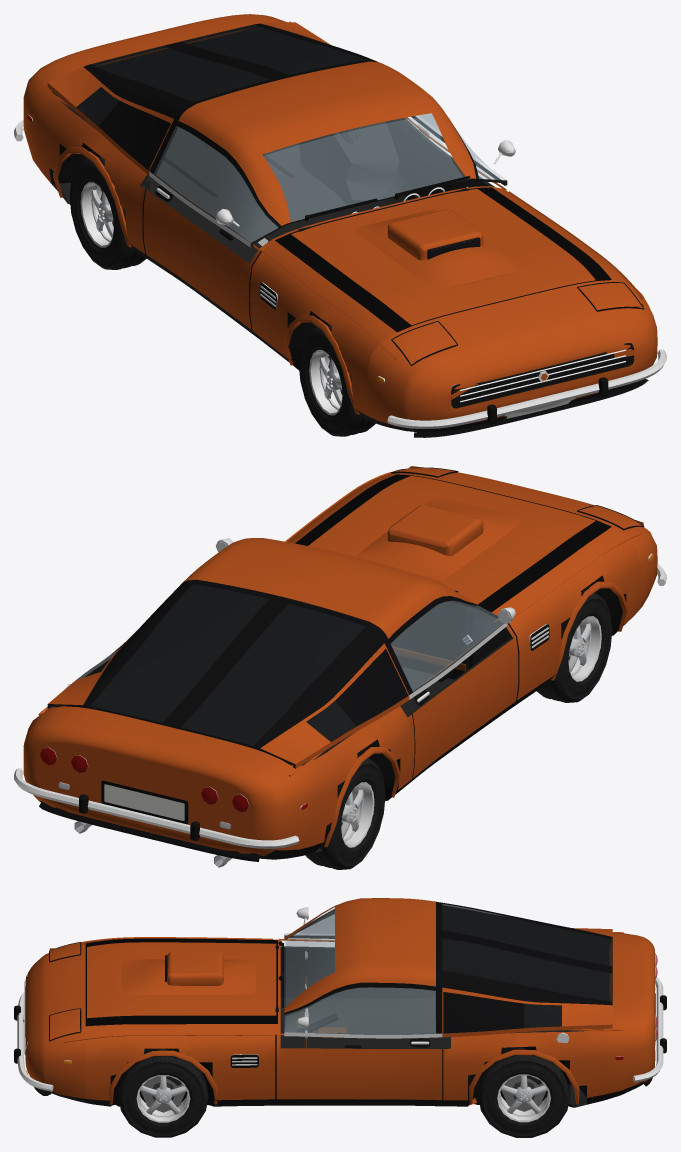
The model's file is ventura_gt_lod2.glb.
The picture shows the model from 3 angles, top to bottom: view 1: azimuth 30°, elevation 25°; view 2: azimuth 150°, elevation 25°; view 3: azimuth 270°, elevation 25°; orthographic projection. The views are drawn at different scales.
Parts seen in each view (by area): view 1: ventura_gt, door_R, hood, hatch, hood_bulge, wheel_RR, wheel_FR, door_L, hood_scoop, popup_R, popup_L; view 2: ventura_gt, hatch, door_R, hood, hood_bulge, wheel_RR, wheel_FR, hood_scoop, popup_R; view 3: ventura_gt, door_L, hatch, hood, wheel_RL, wheel_FL, door_R, hood_bulge, hood_scoop, popup_L, popup_R.
Part boxes in pixels (left/top/right/bottom): ventura_gt: left=14, top=14, right=666, bottom=437; door_R: left=143, top=119, right=281, bottom=329; hood: left=291, top=189, right=595, bottom=325; hatch: left=83, top=23, right=378, bottom=120; hood_bulge: left=353, top=208, right=526, bottom=290; wheel_RR: left=69, top=156, right=149, bottom=269; wheel_FR: left=298, top=325, right=375, bottom=436; door_L: left=406, top=113, right=515, bottom=197; hood_scoop: left=387, top=209, right=483, bottom=260; popup_R: left=391, top=321, right=457, bottom=366; popup_L: left=577, top=282, right=643, bottom=311; ventura_gt: left=14, top=471, right=666, bottom=867; hatch: left=83, top=580, right=387, bottom=750; door_R: left=384, top=596, right=518, bottom=777; hood: left=308, top=476, right=595, bottom=604; hood_bulge: left=357, top=497, right=524, bottom=580; wheel_RR: left=305, top=758, right=385, bottom=869; wheel_FR: left=536, top=592, right=612, bottom=702; hood_scoop: left=387, top=505, right=483, bottom=556; popup_R: left=577, top=505, right=644, bottom=530; ventura_gt: left=14, top=898, right=666, bottom=1107; door_L: left=276, top=982, right=442, bottom=1099; hatch: left=436, top=901, right=612, bottom=1005; hood: left=87, top=942, right=276, bottom=1018; wheel_RL: left=478, top=1047, right=570, bottom=1137; wheel_FL: left=118, top=1048, right=208, bottom=1137; door_R: left=278, top=907, right=435, bottom=998; hood_bulge: left=121, top=959, right=255, bottom=994; hood_scoop: left=165, top=951, right=223, bottom=985; popup_L: left=49, top=1008, right=81, bottom=1041; popup_R: left=49, top=942, right=81, bottom=962.
Bounding box in the file's own units: 1.91 × 1.25 × 4.62.
Materials: 37 (4 with a texture image).
